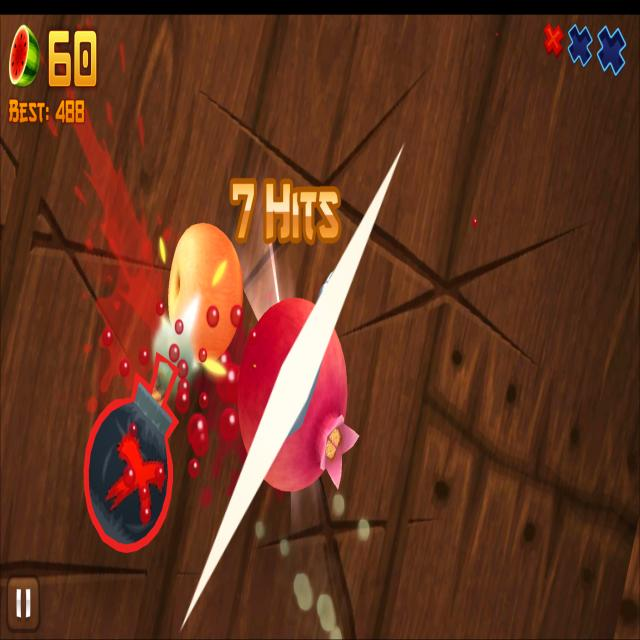bomb: (82, 349, 179, 554)
fruit: (237, 296, 348, 495), (167, 220, 244, 364)
